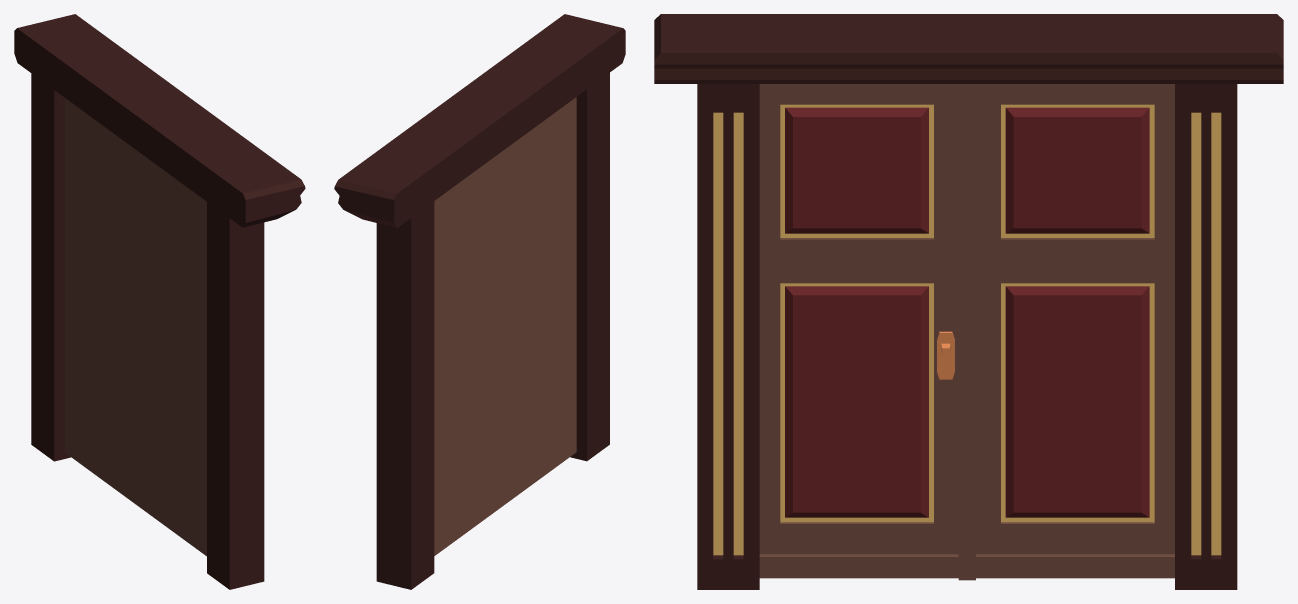
File: PortaSalaDiretorAberta.fbx
3 views of the same model, side by side, from view 1: azimuth 30°, elevation 25°; view 2: azimuth 150°, elevation 25°; view 3: azimuth 270°, elevation 25° (orthographic). The views are drawn at different scales.
Visible parts, largest first — view 1: Cube.001, Cube.005, Cube.002; view 2: Cube.001, Cube.002, Cube.005; view 3: Cube.001, Cube.005, Cube.002.
Boxes of the visible parts, left/top/right/bottom form: Cube.001: left=14, top=14, right=305, bottom=589; Cube.005: left=64, top=98, right=140, bottom=507; Cube.002: left=141, top=154, right=206, bottom=556; Cube.001: left=334, top=14, right=625, bottom=589; Cube.002: left=500, top=97, right=576, bottom=507; Cube.005: left=434, top=153, right=500, bottom=555; Cube.001: left=654, top=14, right=1283, bottom=589; Cube.005: left=958, top=84, right=1174, bottom=580; Cube.002: left=759, top=84, right=958, bottom=578.
Size of the model in its own units: 85.54 by 553 by 570.
